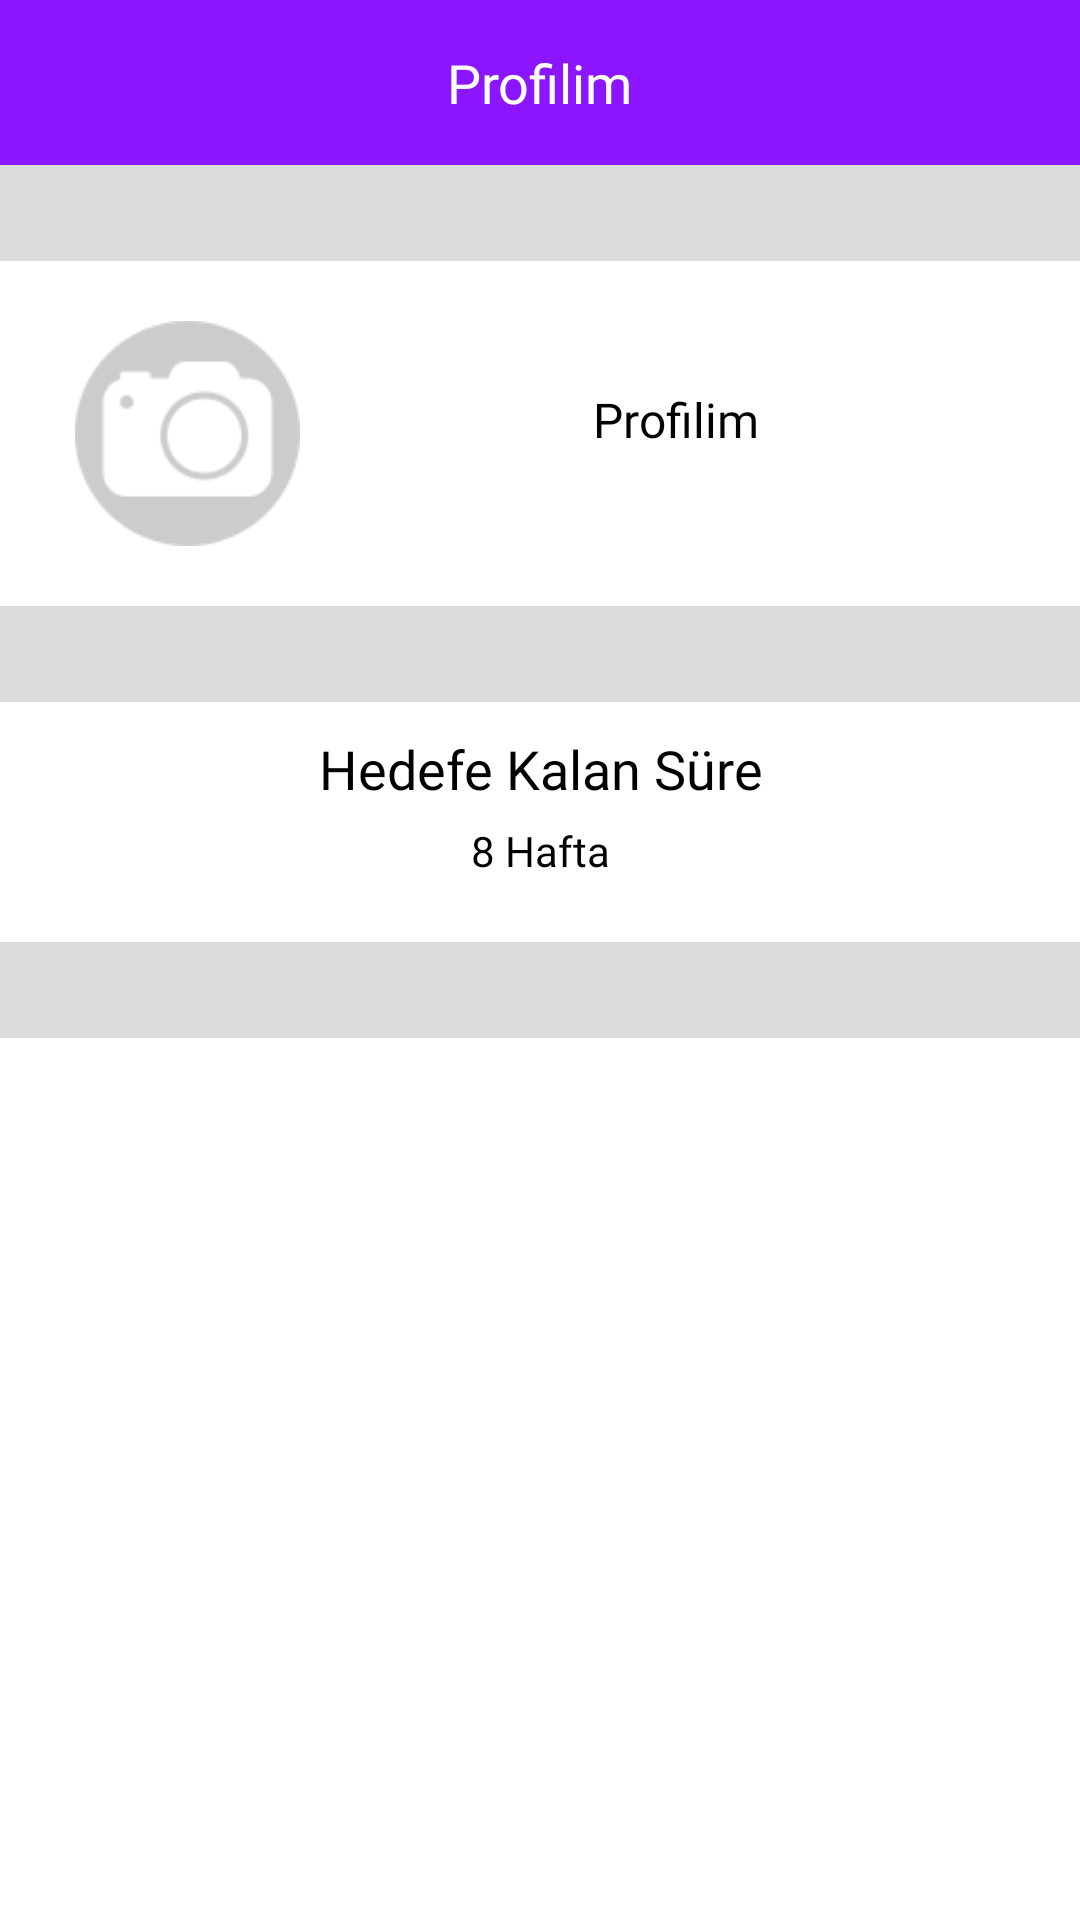

Where icons sit on this 1080*1920 app screen, as (x1, y1, x2, y2):
Fotoğraf seçmek ya da çekmek için tıklayınız: (75, 321, 300, 546)
